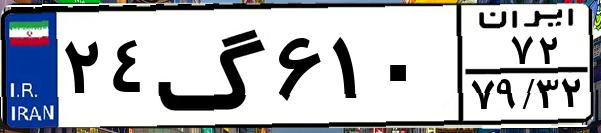0: (385, 28, 445, 110)
1: (330, 28, 385, 110)
2: (57, 26, 110, 100), (560, 70, 590, 125), (537, 27, 568, 80)
3: (535, 70, 560, 125)
4: (110, 28, 156, 98)
6: (270, 28, 330, 110)
7: (508, 27, 537, 80), (470, 70, 495, 125)
9: (495, 70, 520, 125)
گ: (156, 12, 270, 120)
